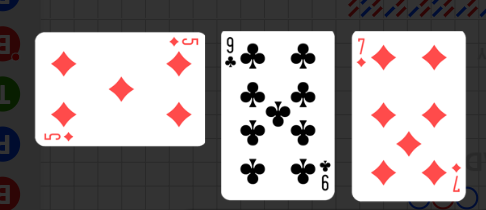7D: (451, 161, 463, 194)
9C: (224, 35, 238, 70)
9D: (43, 131, 75, 143)
